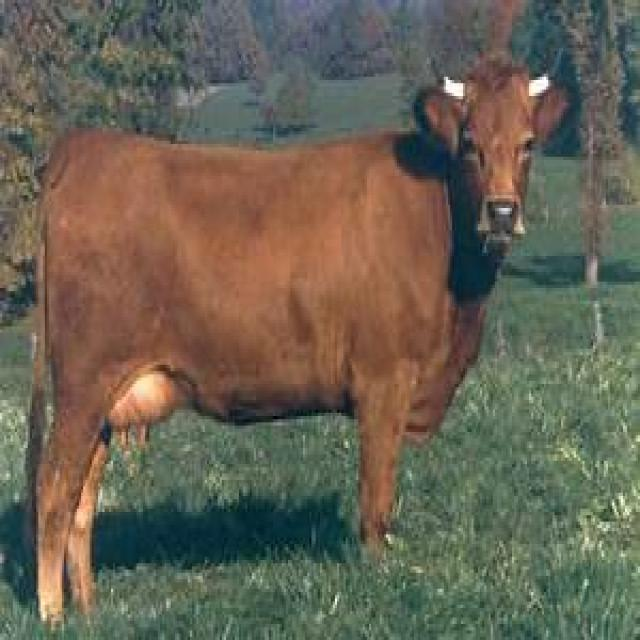cow: (26, 54, 563, 624)
